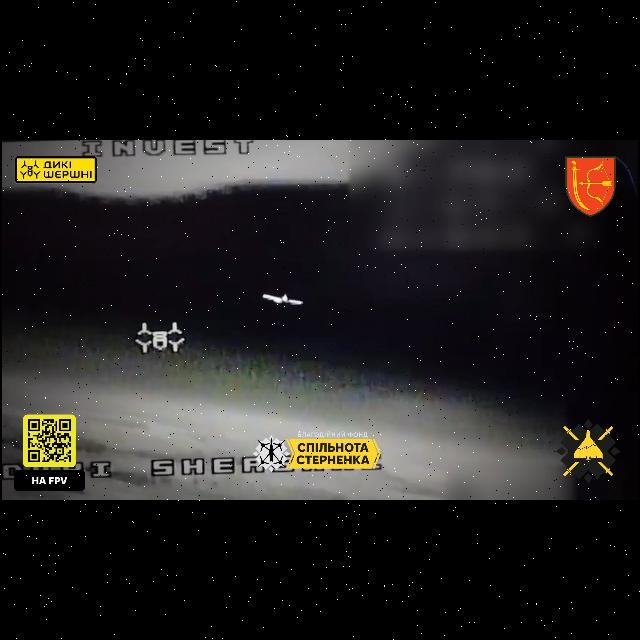Gerbera: (262, 292, 302, 306)
